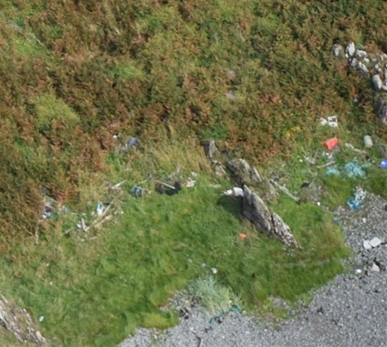scattered_barrel: (313, 112, 387, 217)
together_barrel: (33, 163, 206, 238)
white_in_green: (224, 218, 260, 252)
